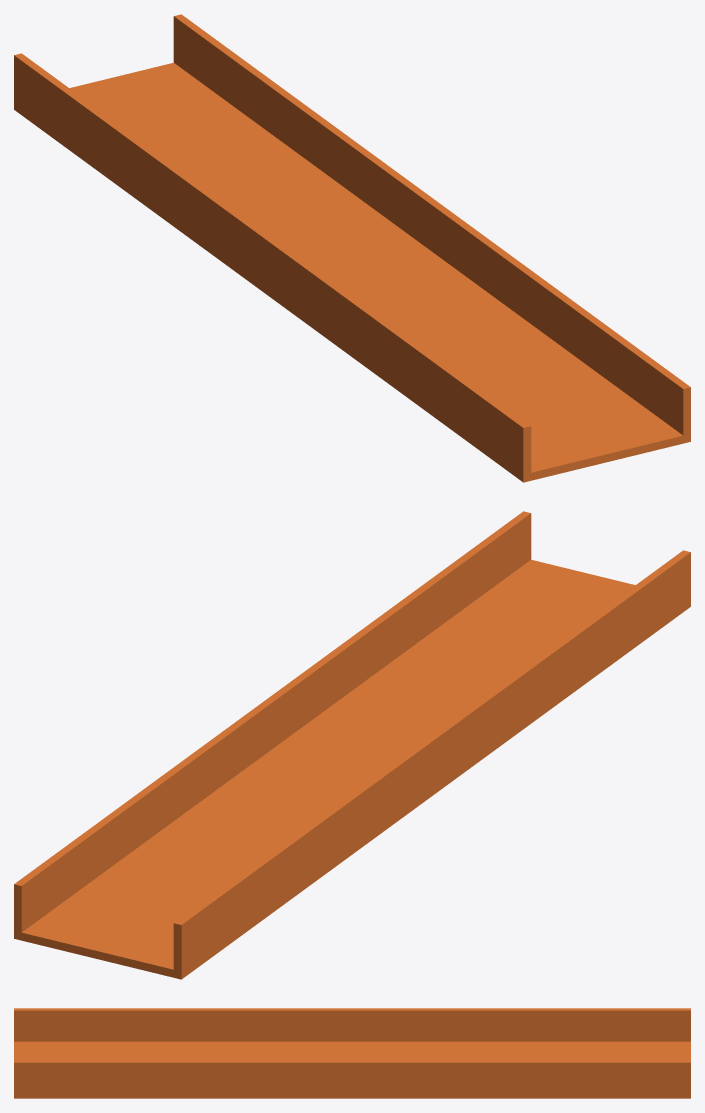
Rendered from car-track.glb.
3 views of the same model, one above another, from view 1: azimuth 30°, elevation 25°; view 2: azimuth 150°, elevation 25°; view 3: azimuth 270°, elevation 25° (orthographic). The views are drawn at different scales.
Visible parts, largest first — view 1: Cube.004; view 2: Cube.004; view 3: Cube.004.
Boxes of the visible parts, <box> form: Cube.004: <box>14,14,690,482</box>; Cube.004: <box>14,511,690,979</box>; Cube.004: <box>14,1008,690,1098</box>.
Size of the model in its own units: 0.109 by 0.0339 by 0.5744.
